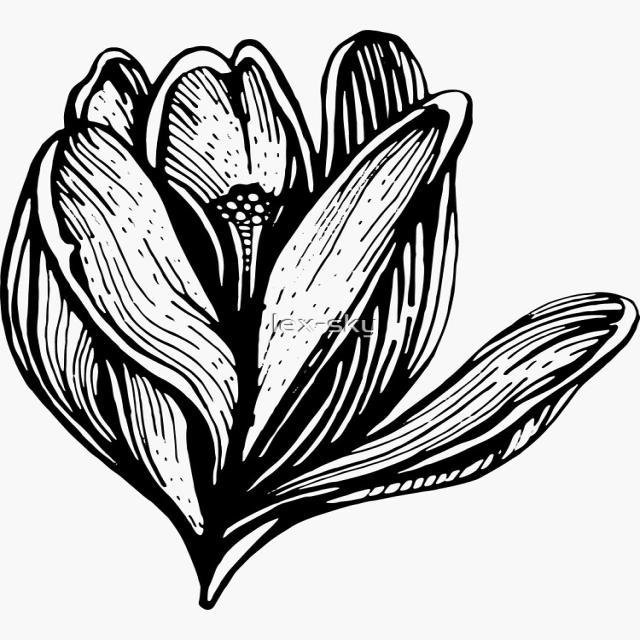Flower: (4, 30, 638, 613)
